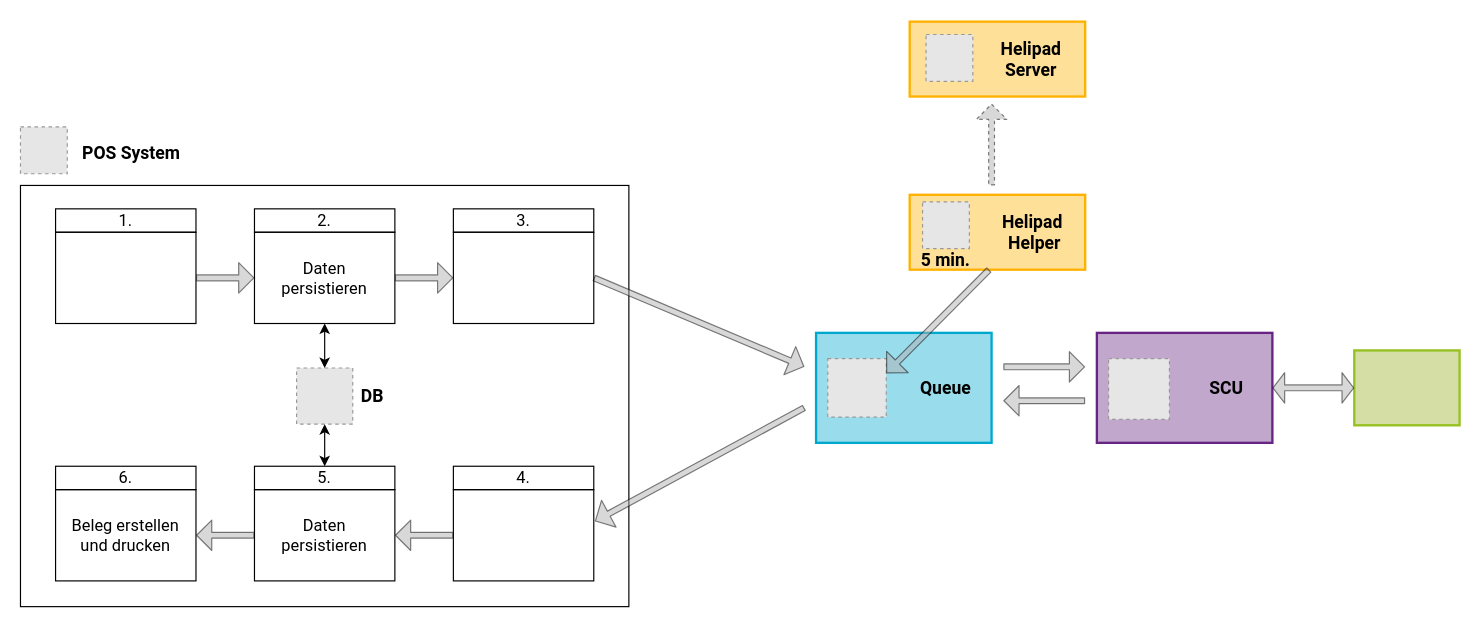
Image size: 1481x627. Some labels were removed from this diagram. Grey dashed boxes stand in for pictures. The shapes that lost their labels are listed below. From the top down, each one's box as (x1, y1, x2, y2) in pixels, then its label:
(54, 231, 196, 324): Charge- und Pay-Items sammeln
(452, 231, 594, 324): sign - Request erstellen und senden
(1353, 349, 1460, 426): TSE
(452, 488, 594, 581): Response prozessieren
